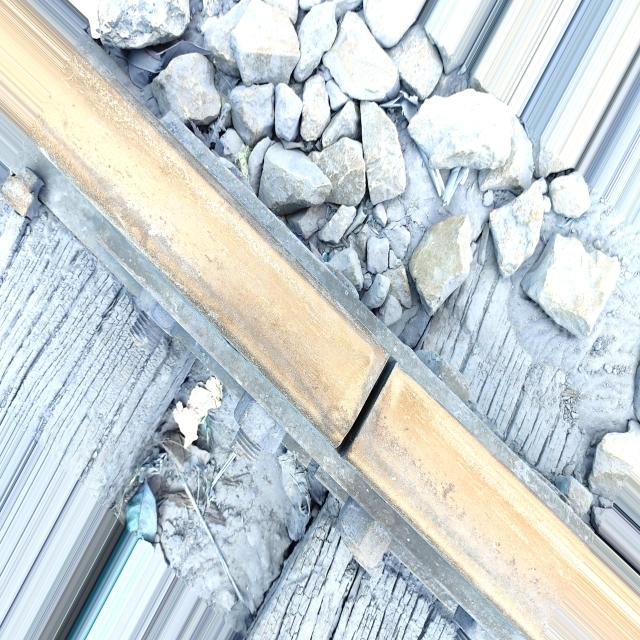crack: (292, 344, 419, 467)
